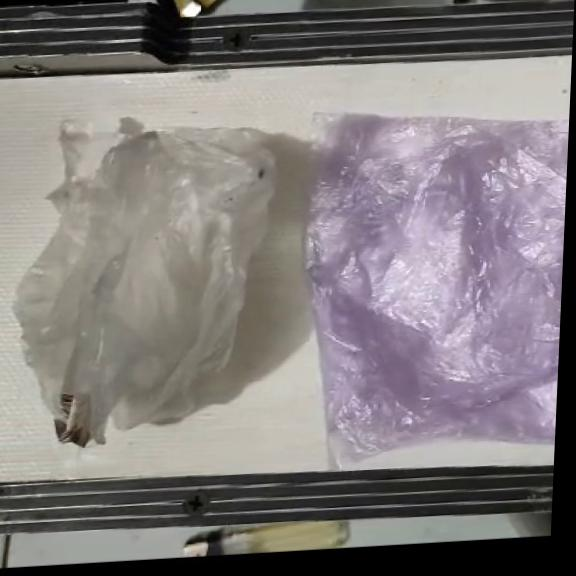Plastik: (295, 93, 570, 474), (6, 102, 281, 453)
